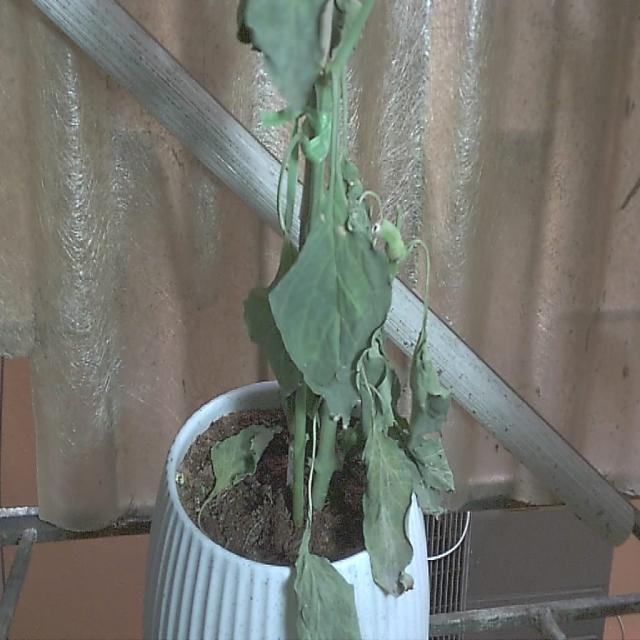Leaf: (267, 208, 394, 420), (363, 430, 416, 596), (291, 532, 359, 640)
